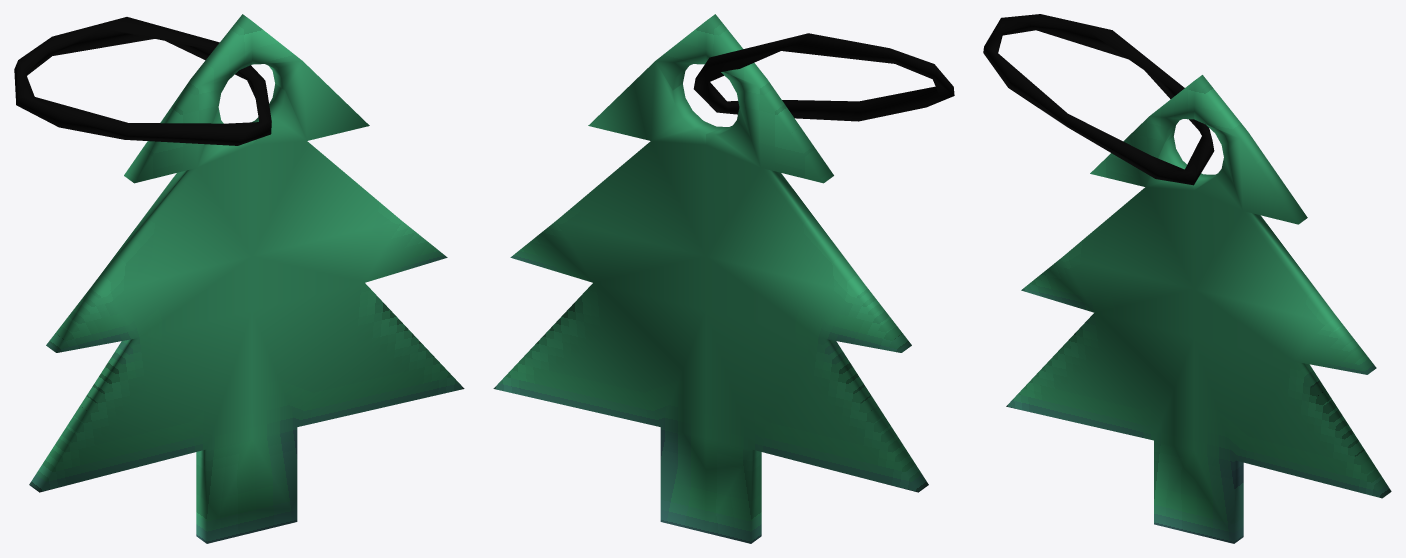
The model's file is HC_AirFreshener.fbx.
The picture shows the model from 3 angles, left to right: view 1: azimuth 30°, elevation 25°; view 2: azimuth 150°, elevation 25°; view 3: azimuth 330°, elevation 25°; orthographic projection. The views are drawn at different scales.
Parts seen in each view (by area): view 1: AirFreshener; view 2: AirFreshener; view 3: AirFreshener.
Part boxes in pixels (x1,y1,x2,y2): AirFreshener: (14,14,464,543); AirFreshener: (493,14,954,543); AirFreshener: (983,14,1391,543).
Bounding box in the file's own units: 0.1136 × 0.1285 × 0.0144.
